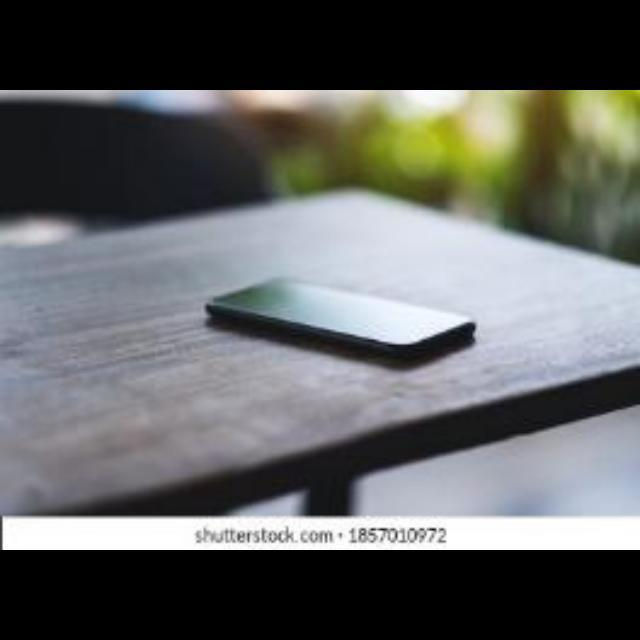PhoneUse: (182, 280, 488, 356)
